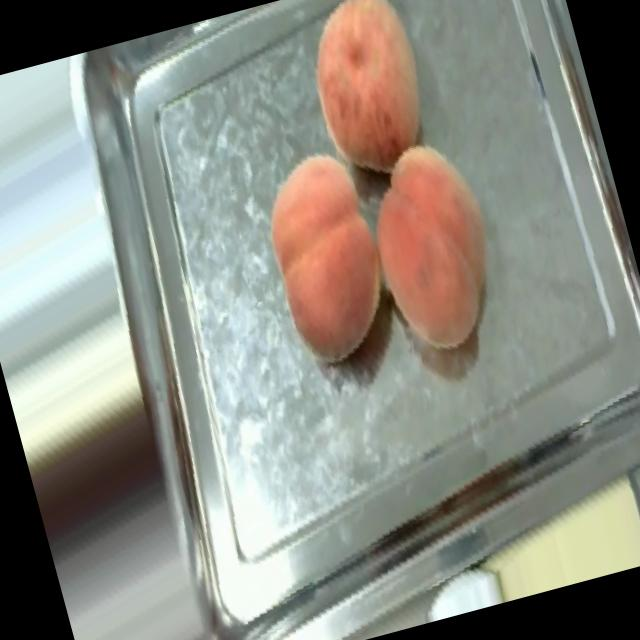Fruit: (227, 130, 417, 396), (338, 121, 530, 379), (272, 0, 456, 199), (441, 449, 640, 611)
